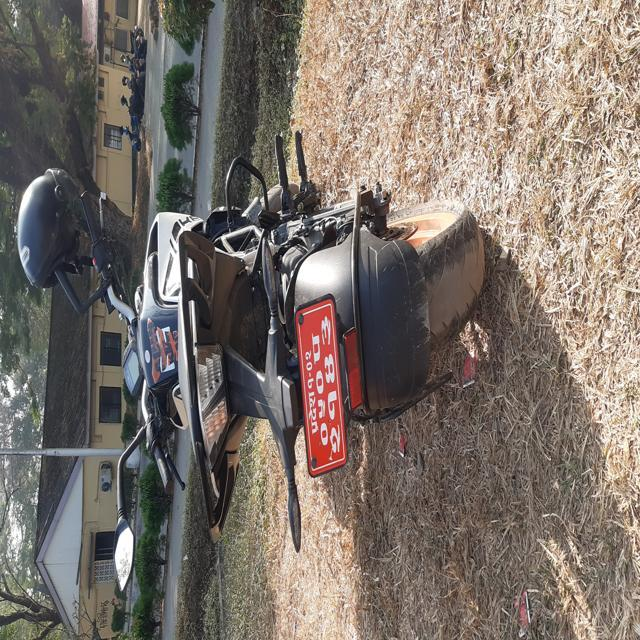license_plate: (260, 278, 360, 494)
